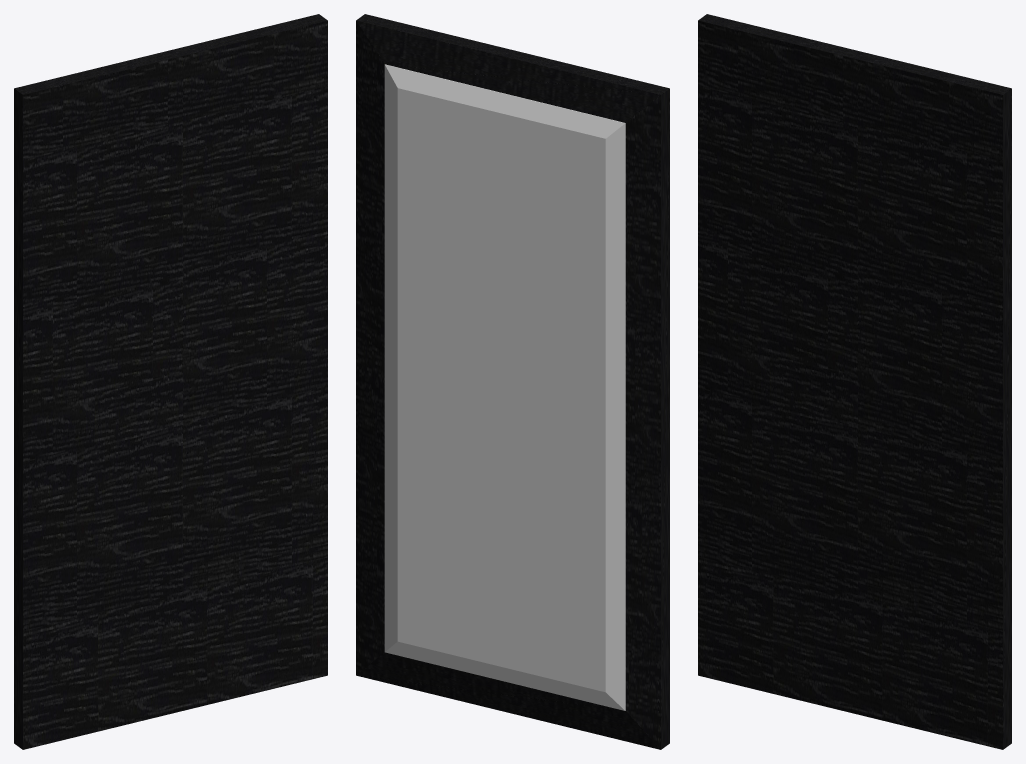
File: mirror.fbx
The picture shows the model from 3 angles, left to right: view 1: azimuth 30°, elevation 25°; view 2: azimuth 150°, elevation 25°; view 3: azimuth 330°, elevation 25°; orthographic projection.
Visible parts, largest first — view 1: mirror_frame; view 2: mirror_glass, mirror_frame; view 3: mirror_frame.
Part boxes in pixels (box(x1,y1,x2,y2)): mirror_frame: box(14, 14, 327, 749); mirror_glass: box(384, 64, 625, 710); mirror_frame: box(356, 14, 669, 749); mirror_frame: box(698, 14, 1011, 749).
Size of the model in its own units: 3.17 by 6.5 by 0.2828.
Materials: 2 (1 with a texture image).
